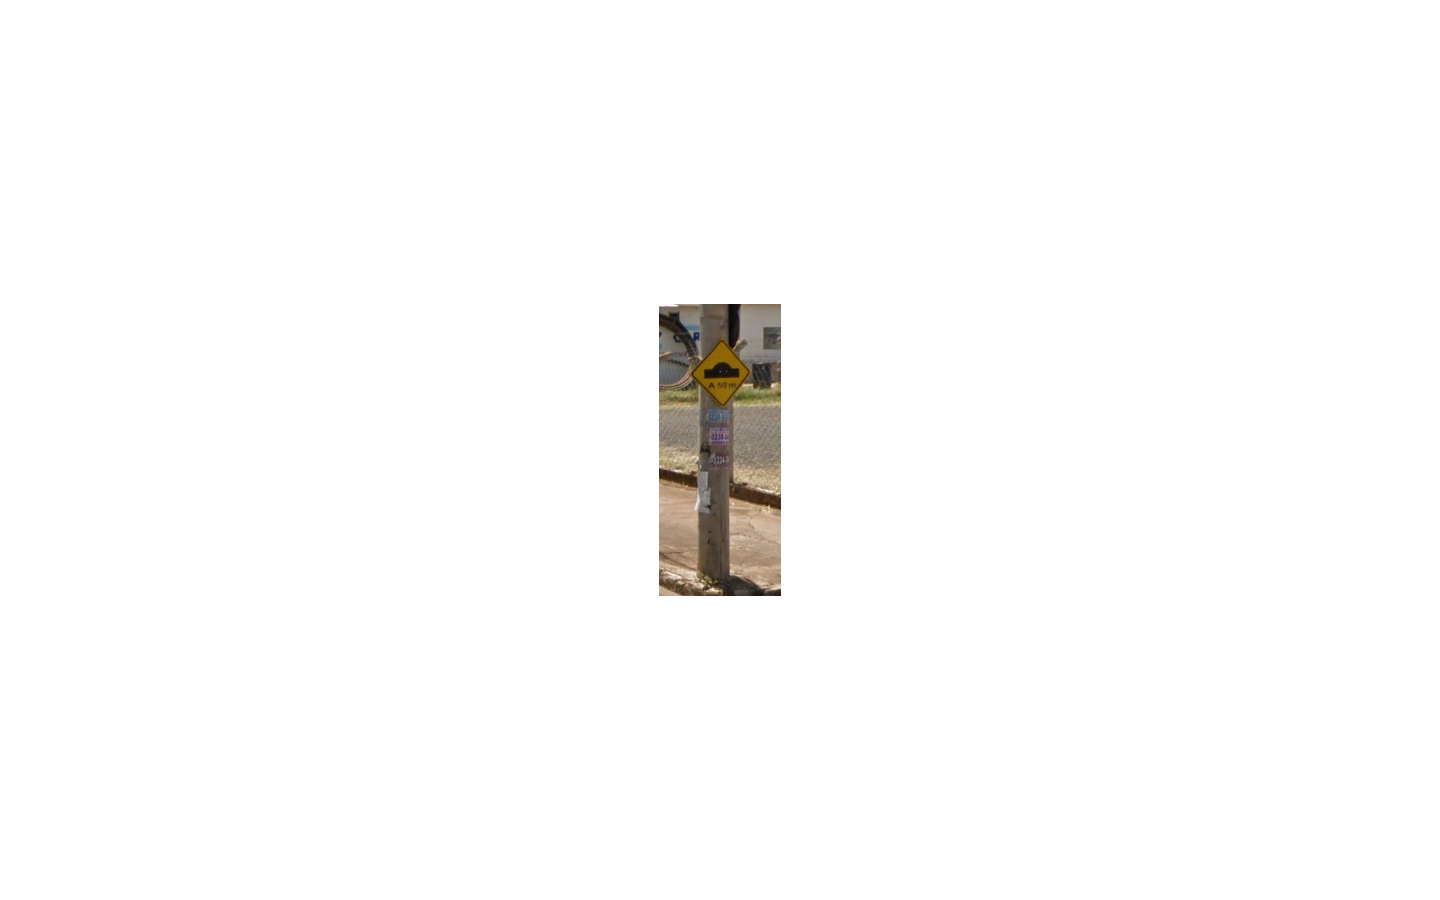l50m: (690, 338, 750, 407)
